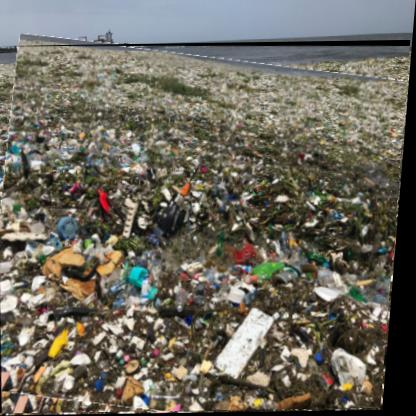Garbage: (1, 42, 413, 416)
